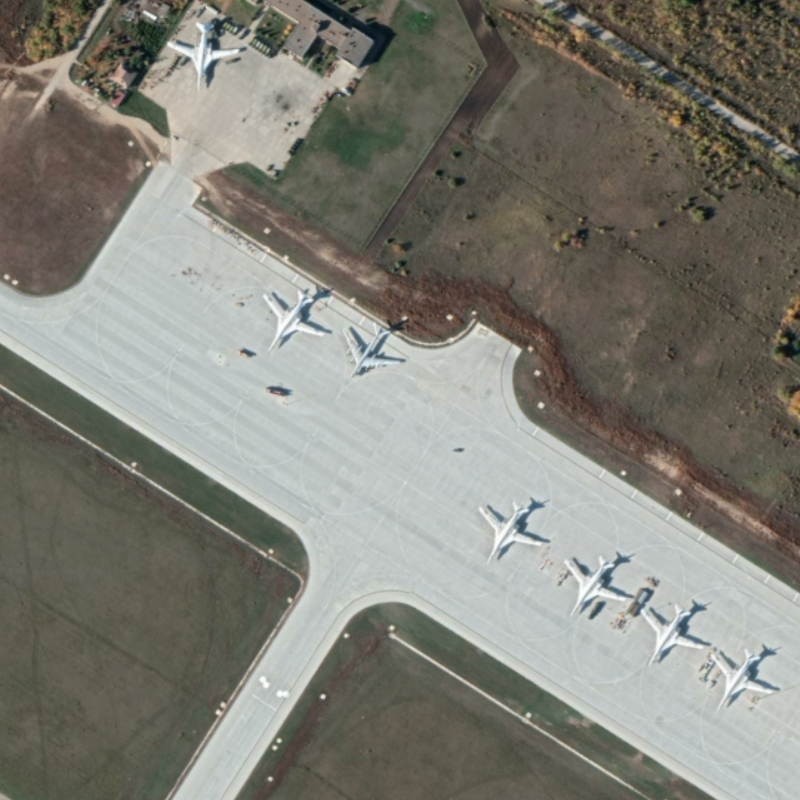A17: (342, 319, 408, 383)
A6: (162, 19, 244, 95), (561, 548, 635, 617), (474, 495, 547, 564), (708, 644, 779, 711), (638, 599, 707, 667), (261, 286, 332, 351)
